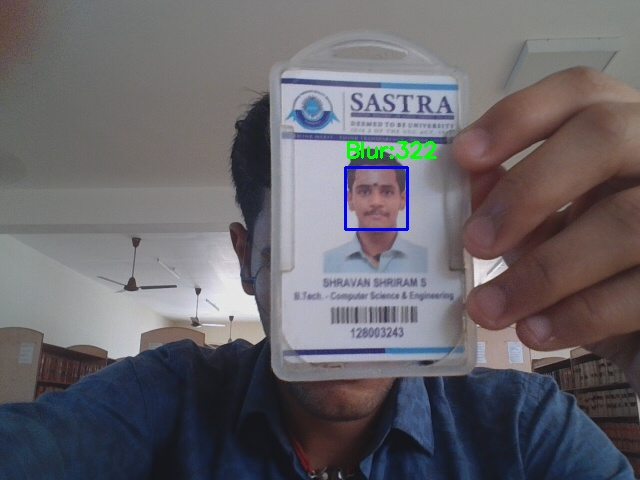fake: (345, 167, 407, 229)
